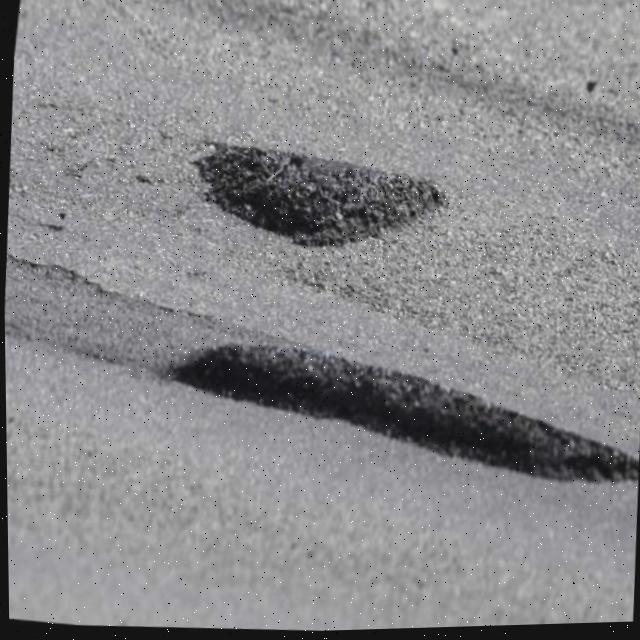Pothole: (173, 331, 640, 511), (194, 130, 465, 279)
